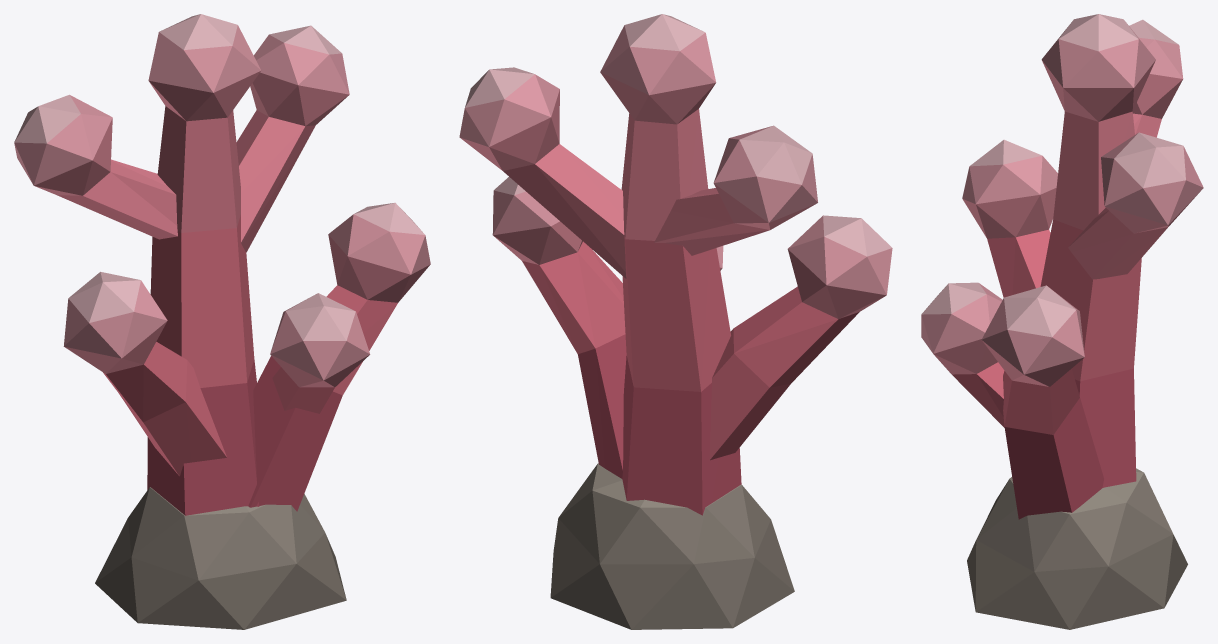
The model's file is coral_branch.glb.
The picture shows the model from 3 angles, left to right: view 1: azimuth 30°, elevation 25°; view 2: azimuth 150°, elevation 25°; view 3: azimuth 270°, elevation 25°; orthographic projection. The views are drawn at different scales.
Visible parts, largest first — view 1: coral_branch; view 2: coral_branch; view 3: coral_branch.
Part boxes in pixels (x1,y1,x2,y2): coral_branch: [14, 14, 430, 629]; coral_branch: [459, 14, 892, 629]; coral_branch: [921, 14, 1203, 629].
Size of the model in its own units: 0.6892 by 1 by 0.4592.
